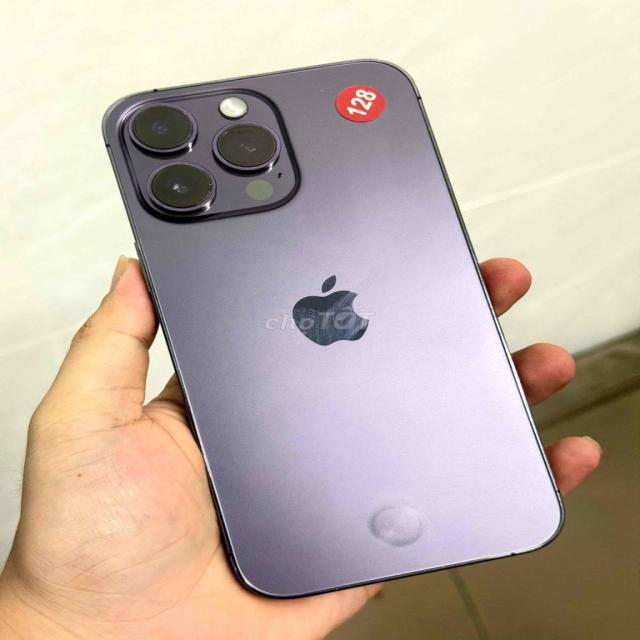physical_damage: (366, 498, 427, 552)
